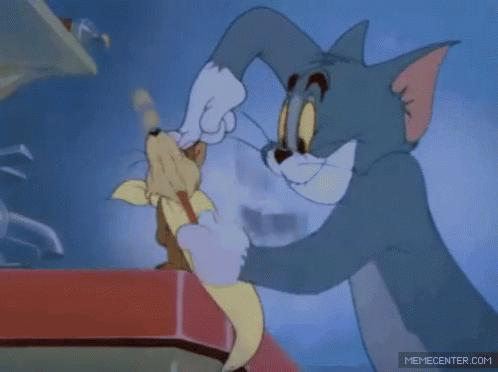jerry: (145, 127, 212, 272)
